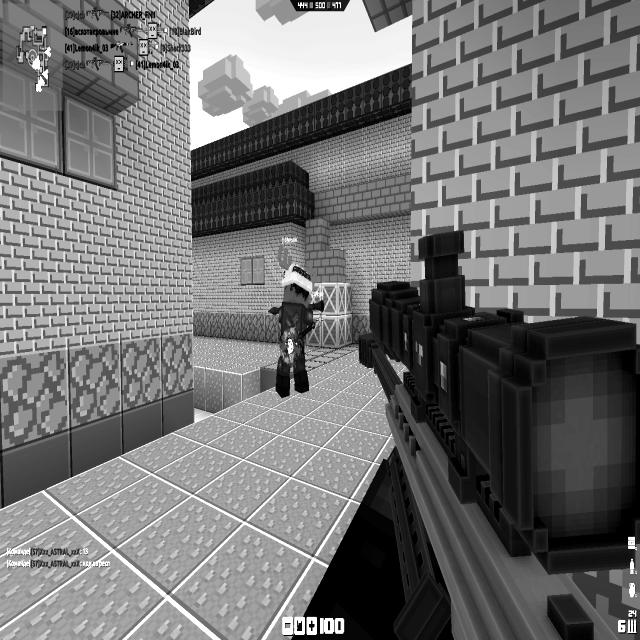Head: (281, 264, 312, 306)
Player: (274, 263, 325, 398)
